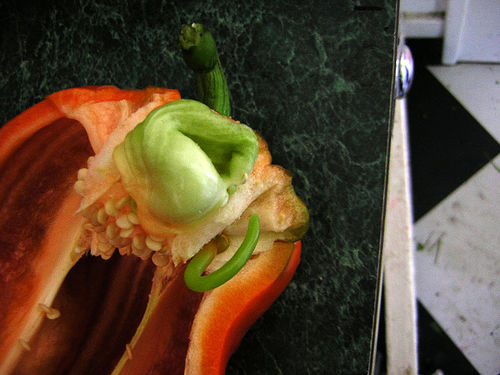capsicum: (3, 25, 308, 374)
